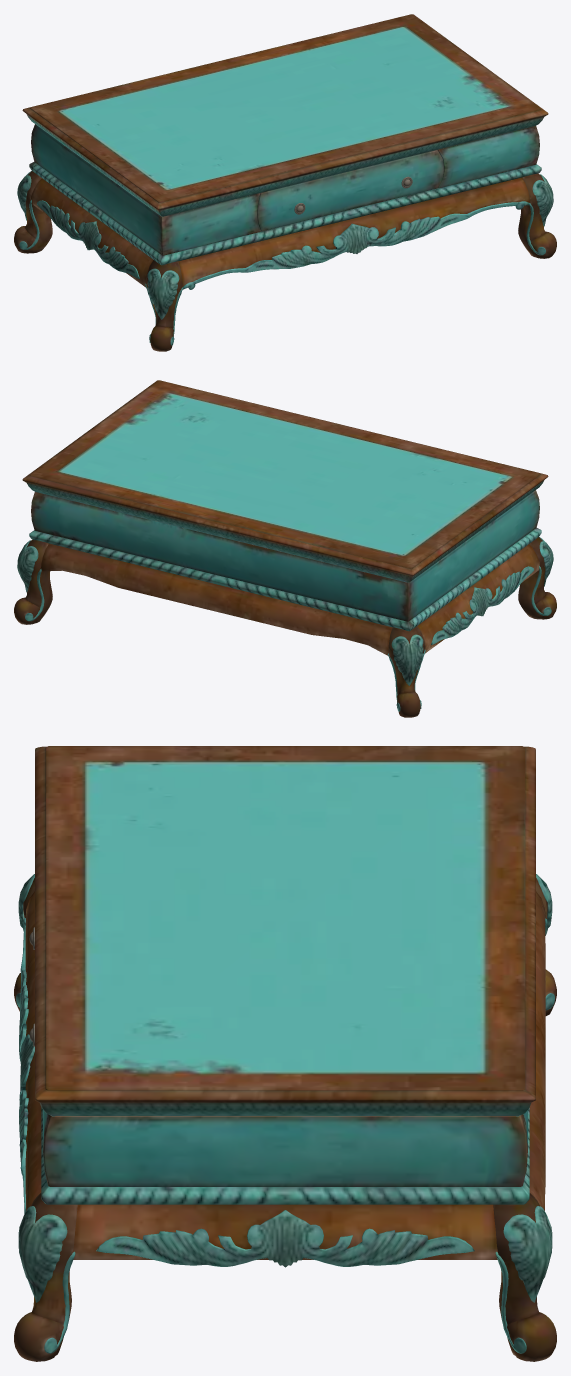
The model's file is CoffeeTable_01.glb.
3 renders of one model, top to bottom at view 1: azimuth 30°, elevation 25°; view 2: azimuth 150°, elevation 25°; view 3: azimuth 270°, elevation 25°, orthographic. The views are drawn at different scales.
Parts seen in each view (by area): view 1: CoffeeTable_01; view 2: CoffeeTable_01; view 3: CoffeeTable_01.
Boxes of the visible parts, <box> form: CoffeeTable_01: <box>14,14,556,351</box>; CoffeeTable_01: <box>14,380,556,717</box>; CoffeeTable_01: <box>14,746,556,1361</box>.
Bounding box in the file's own units: 1.54 × 0.5232 × 0.9728.
Materials: 2 (2 with a texture image).
